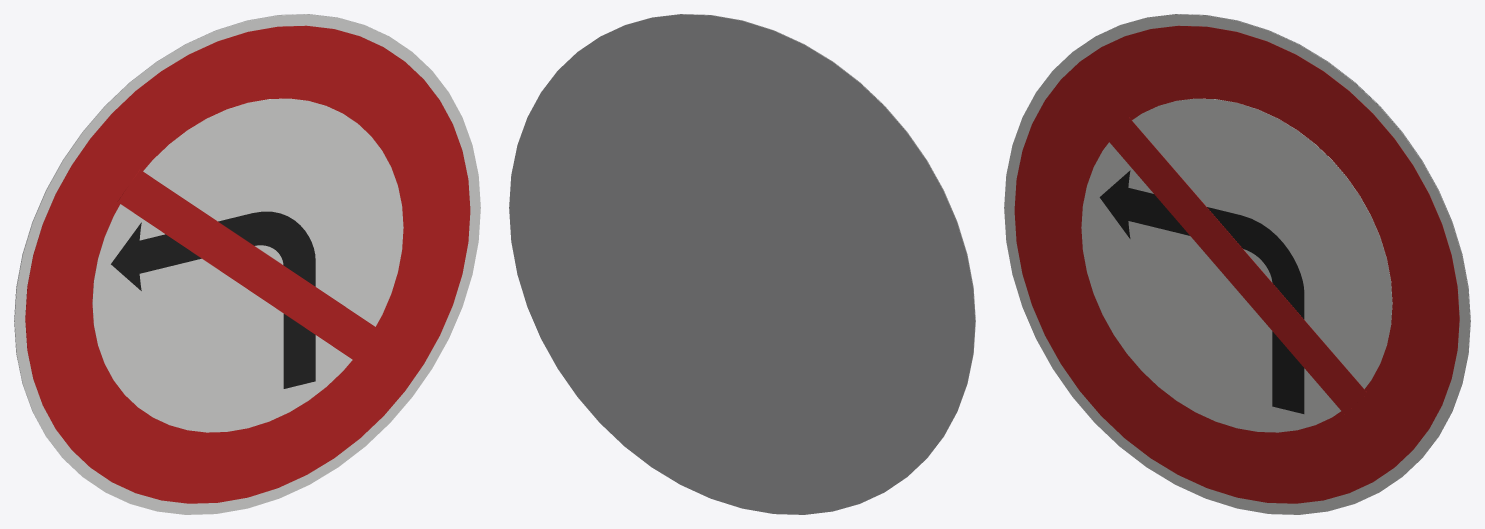
3 renders of one model, left to right at view 1: azimuth 30°, elevation 25°; view 2: azimuth 150°, elevation 25°; view 3: azimuth 330°, elevation 25°, orthographic.
Parts seen in each view (by area): view 1: B2a_p01, B2a_p02, B2a_p00, B2a_p04, B2a_p03, B2a_dos; view 2: B2a_dos, B2a_p00; view 3: B2a_p01, B2a_p02, B2a_p00, B2a_p04, B2a_p03, B2a_dos.
Boxes of the visible parts, left/top/right/bottom form: B2a_p01: left=25, top=25, right=470, bottom=503; B2a_p02: left=92, top=98, right=403, bottom=432; B2a_p00: left=14, top=14, right=480, bottom=514; B2a_p04: left=117, top=169, right=378, bottom=361; B2a_p03: left=111, top=211, right=315, bottom=388; B2a_dos: left=14, top=14, right=385, bottom=473; B2a_dos: left=509, top=14, right=975, bottom=514; B2a_p00: left=604, top=14, right=975, bottom=473; B2a_p01: left=1014, top=25, right=1459, bottom=503; B2a_p02: left=1081, top=98, right=1392, bottom=432; B2a_p00: left=1004, top=14, right=1470, bottom=514; B2a_p04: left=1106, top=117, right=1367, bottom=414; B2a_p03: left=1099, top=170, right=1304, bottom=413; B2a_dos: left=1099, top=14, right=1470, bottom=473.
Size of the model in its own units: 0.85 by 0.8498 by 0.0035.
